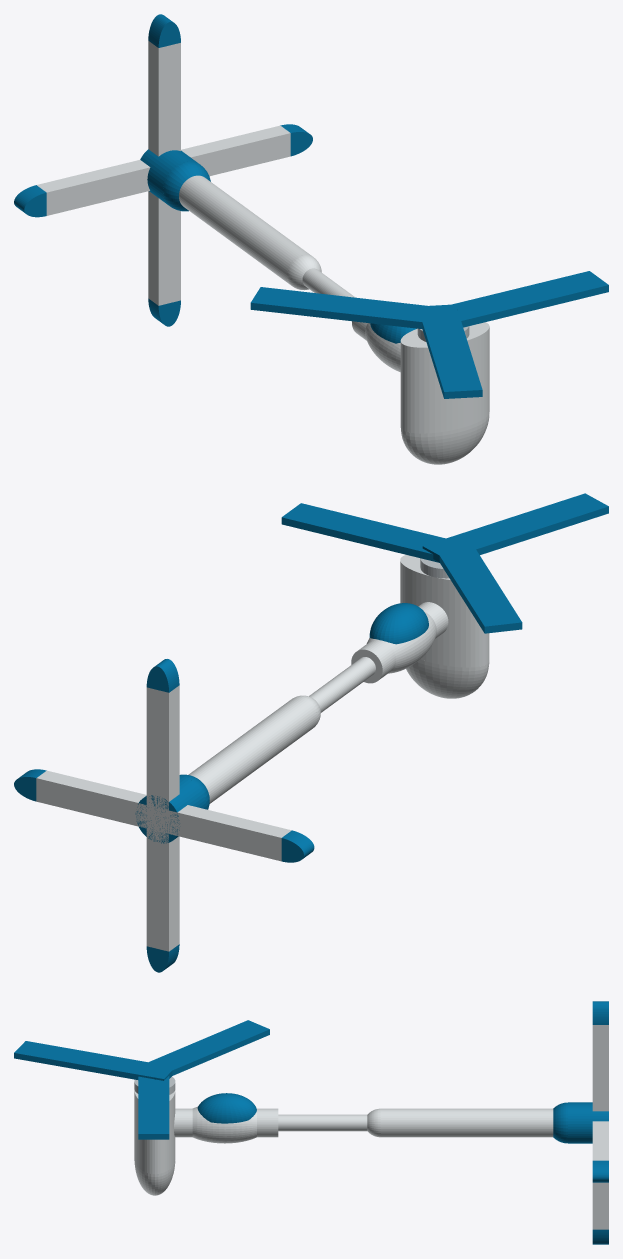
Rendered from fan.obj.
3 renders of one model, top to bottom at view 1: azimuth 30°, elevation 25°; view 2: azimuth 150°, elevation 25°; view 3: azimuth 270°, elevation 25°, orthographic. The views are drawn at different scales.
Parts seen in each view (by area): view 1: obj_0, obj_1, obj_12, obj_4, obj_19, obj_20, obj_21, obj_11, obj_3, obj_2, obj_9, obj_15 (+4 smaller); view 2: obj_0, obj_1, obj_4, obj_12, obj_21, obj_19, obj_20, obj_11, obj_17, obj_7, obj_3, obj_9 (+3 smaller); view 3: obj_4, obj_19, obj_21, obj_0, obj_20, obj_12, obj_7, obj_9, obj_17, obj_3, obj_11, obj_1 (+6 smaller).
Boxes of the visible parts, <box> form: obj_0: <box>148,41,180,305</box>; obj_1: <box>37,125,290,215</box>; obj_12: <box>400,322,489,433</box>; obj_4: <box>179,175,311,284</box>; obj_19: <box>250,287,457,328</box>; obj_20: <box>452,271,608,327</box>; obj_21: <box>418,304,482,398</box>; obj_11: <box>400,414,489,464</box>; obj_3: <box>140,149,198,205</box>; obj_2: <box>163,161,210,211</box>; obj_9: <box>365,323,400,372</box>; obj_15: <box>148,14,180,47</box>; obj_0: <box>146,685,179,951</box>; obj_1: <box>36,770,291,861</box>; obj_4: <box>188,697,317,803</box>; obj_12: <box>400,555,489,667</box>; obj_21: <box>422,493,608,562</box>; obj_19: <box>432,538,522,633</box>; obj_20: <box>281,503,445,562</box>; obj_11: <box>406,659,489,698</box>; obj_17: <box>369,603,428,644</box>; obj_7: <box>309,657,375,712</box>; obj_3: <box>135,776,206,843</box>; obj_9: <box>366,612,436,673</box>; obj_4: <box>381,1108,553,1137</box>; obj_19: <box>134,1020,269,1079</box>; obj_21: <box>14,1041,172,1080</box>; obj_0: <box>592,1025,608,1229</box>; obj_20: <box>138,1076,169,1139</box>; obj_12: <box>134,1090,175,1174</box>; obj_7: <box>278,1114,367,1131</box>; obj_9: <box>192,1106,256,1143</box>; obj_17: <box>197,1093,256,1123</box>; obj_3: <box>568,1102,608,1143</box>; obj_11: <box>134,1159,175,1195</box>; obj_1: <box>592,1121,608,1160</box>.
Size of the model in its own units: 134 by 130 by 290.
